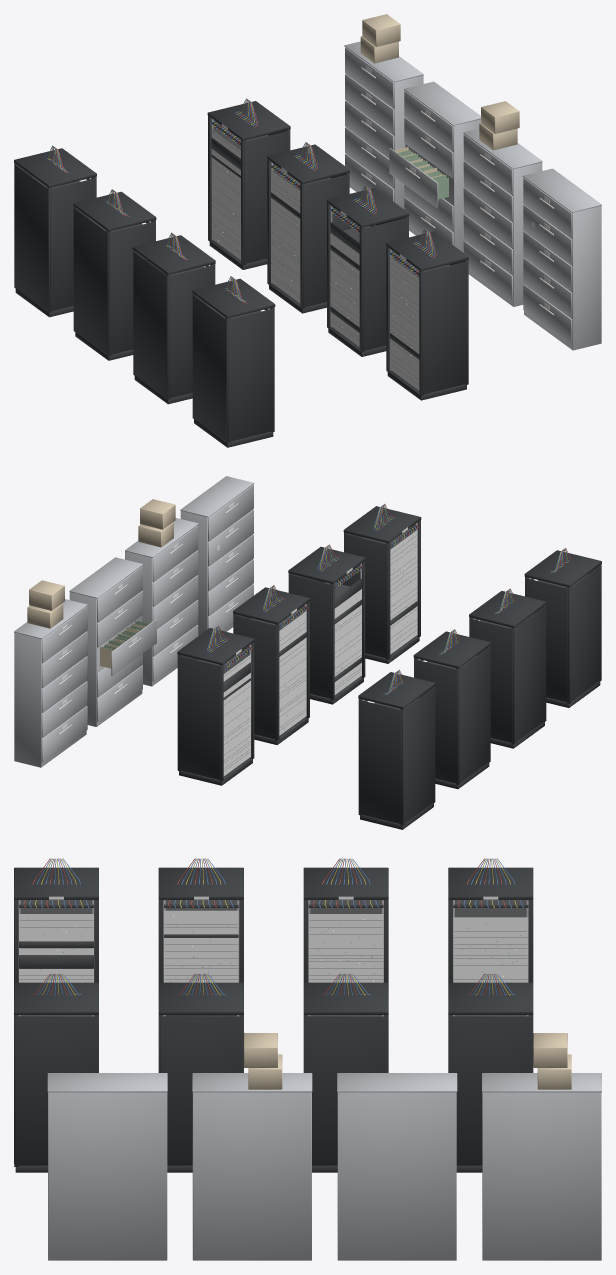
The model's file is DataRoom_Interior.fbx.
The picture shows the model from 3 angles, top to bottom: view 1: azimuth 30°, elevation 25°; view 2: azimuth 150°, elevation 25°; view 3: azimuth 270°, elevation 25°; orthographic projection. The views are drawn at different scales.
Parts seen in each view (by area): view 1: DataRoom_Interior; view 2: DataRoom_Interior; view 3: DataRoom_Interior.
Part boxes in pixels (box(x1,y1,x2,y2)): DataRoom_Interior: box(14, 14, 601, 447); DataRoom_Interior: box(14, 476, 601, 829); DataRoom_Interior: box(14, 858, 601, 1260).
Size of the model in its own units: 6.43 by 2.75 by 6.9.
